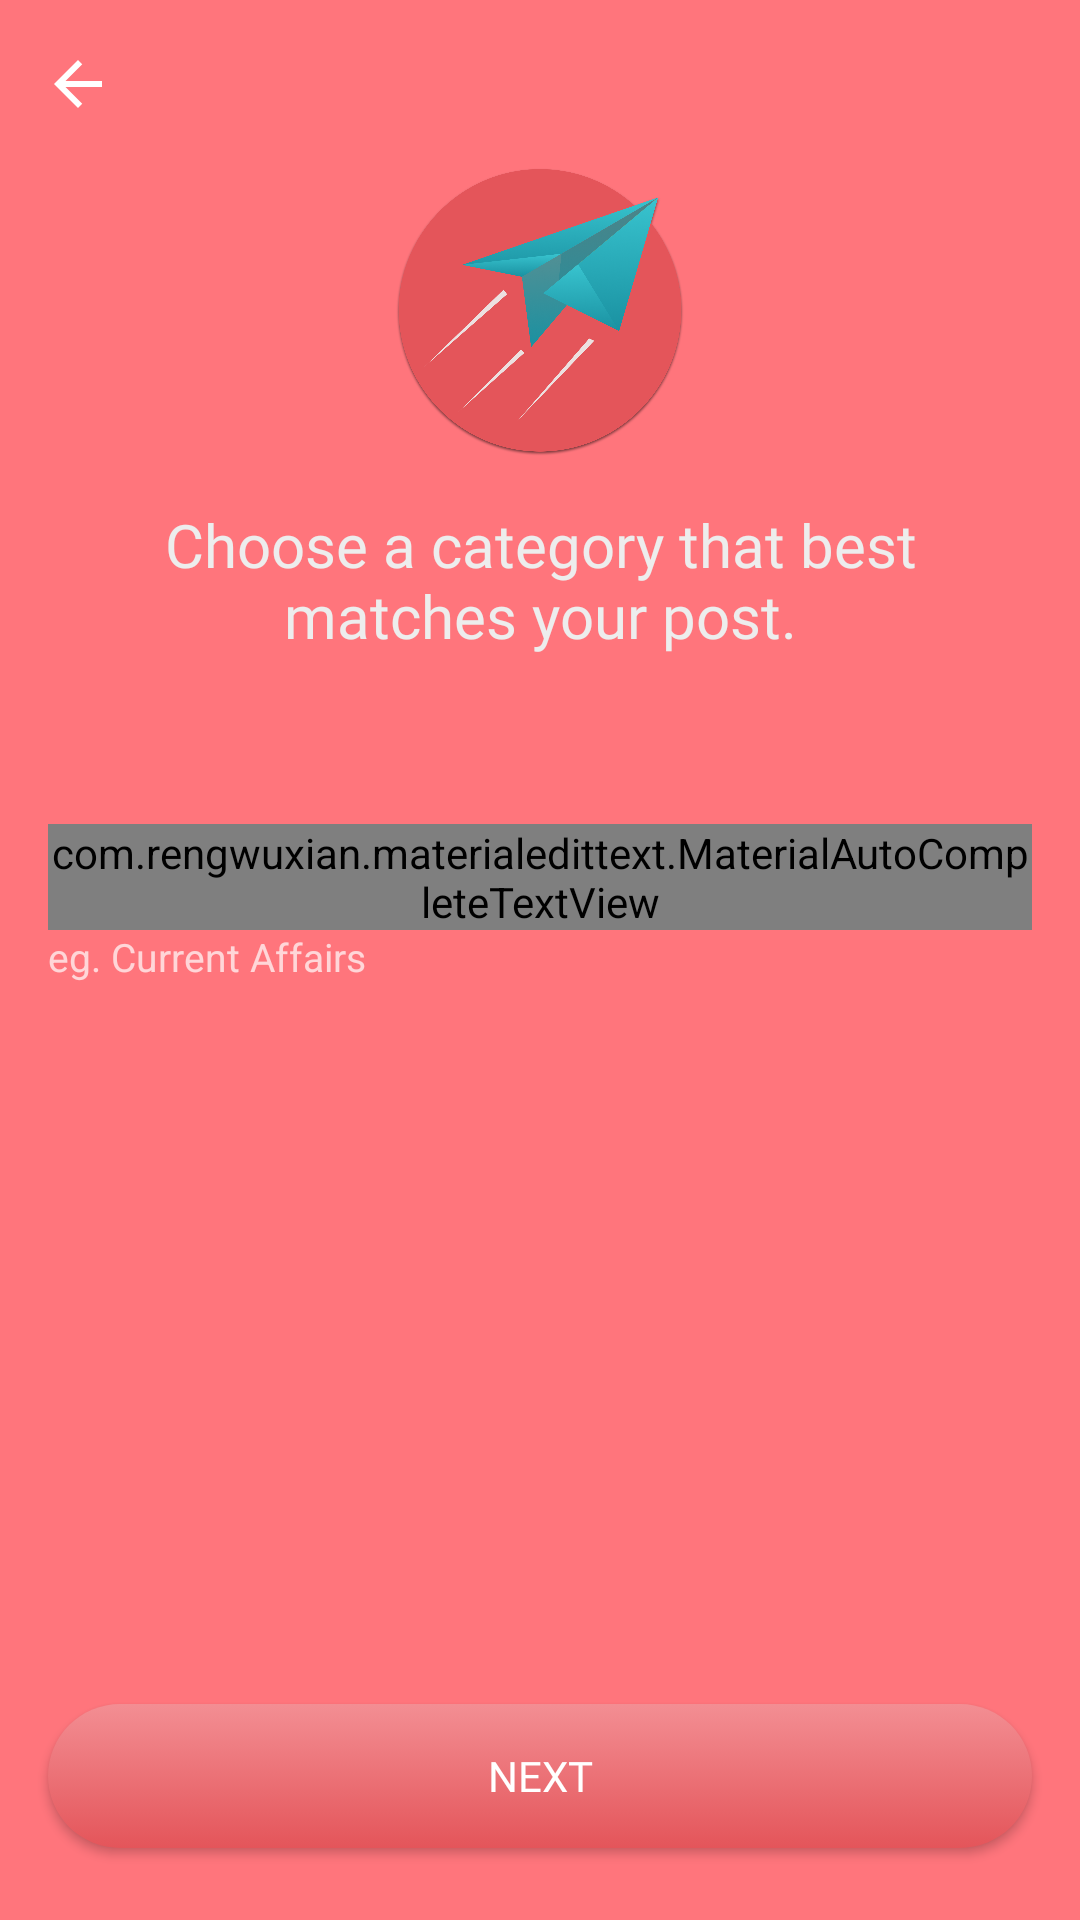

Icon click points for this 1080w x 1920h phone screenshot, format (x,y):
arrow back: (78,84)
send: (540,311)
